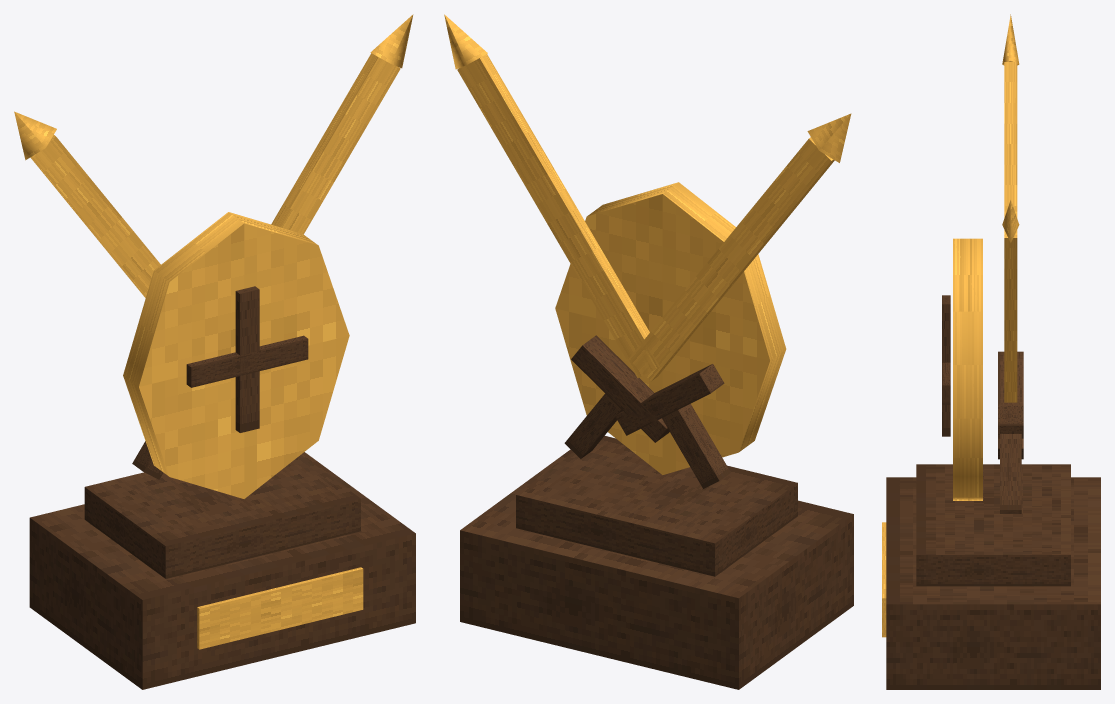
Rendered from ejercito.glb.
The picture shows the model from 3 angles, left to right: view 1: azimuth 30°, elevation 25°; view 2: azimuth 150°, elevation 25°; view 3: azimuth 270°, elevation 25°; orthographic projection. The views are drawn at different scales.
Visible parts, largest first — view 1: ejercito; view 2: ejercito; view 3: ejercito.
Boxes of the visible parts, x1=… form: ejercito: x1=14, y1=14, x2=415, y2=689; ejercito: x1=444, y1=14, x2=853, y2=689; ejercito: x1=882, y1=14, x2=1100, y2=689.
Size of the model in its own units: 1.02 by 1.34 by 0.51.
Materials: 2 (2 with a texture image).
